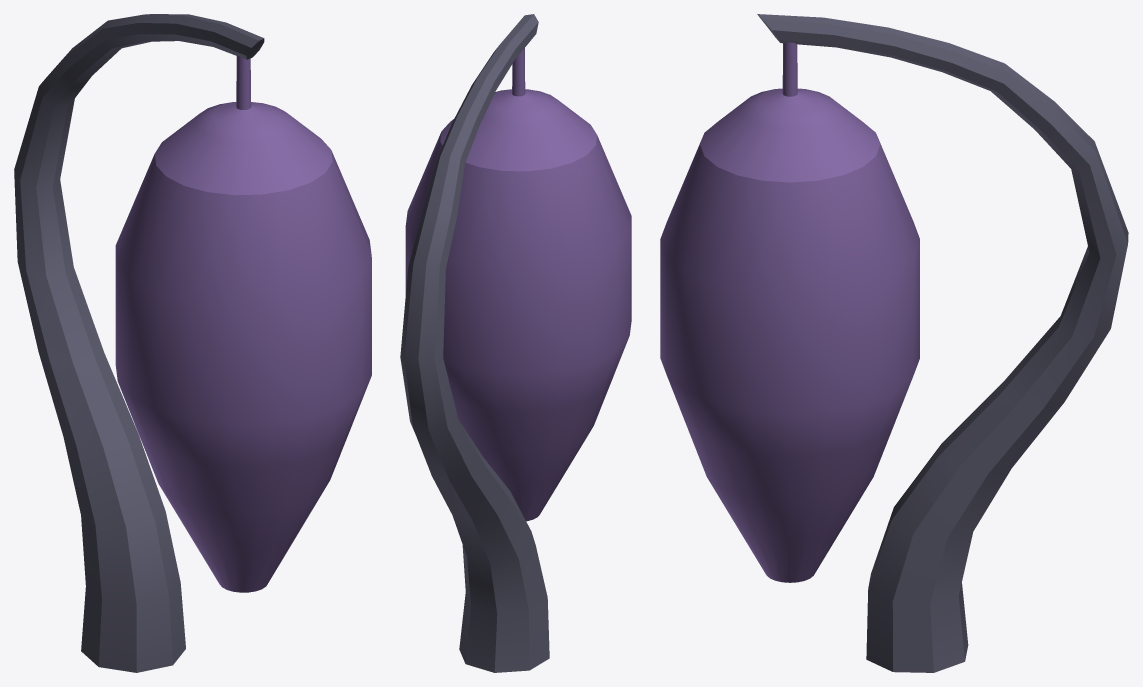
File: env3D_chrysalis.fbx
3 renders of one model, left to right at view 1: azimuth 30°, elevation 25°; view 2: azimuth 150°, elevation 25°; view 3: azimuth 270°, elevation 25°, orthographic. The views are drawn at different scales.
Visible parts, largest first — view 1: env3D_chrysalis; view 2: env3D_chrysalis; view 3: env3D_chrysalis.
Part boxes in pixels (x1,y1,x2,y2): env3D_chrysalis: [14, 14, 371, 672]; env3D_chrysalis: [400, 14, 631, 672]; env3D_chrysalis: [660, 14, 1128, 672].
Size of the model in its own units: 47.03 by 132 by 84.81.
